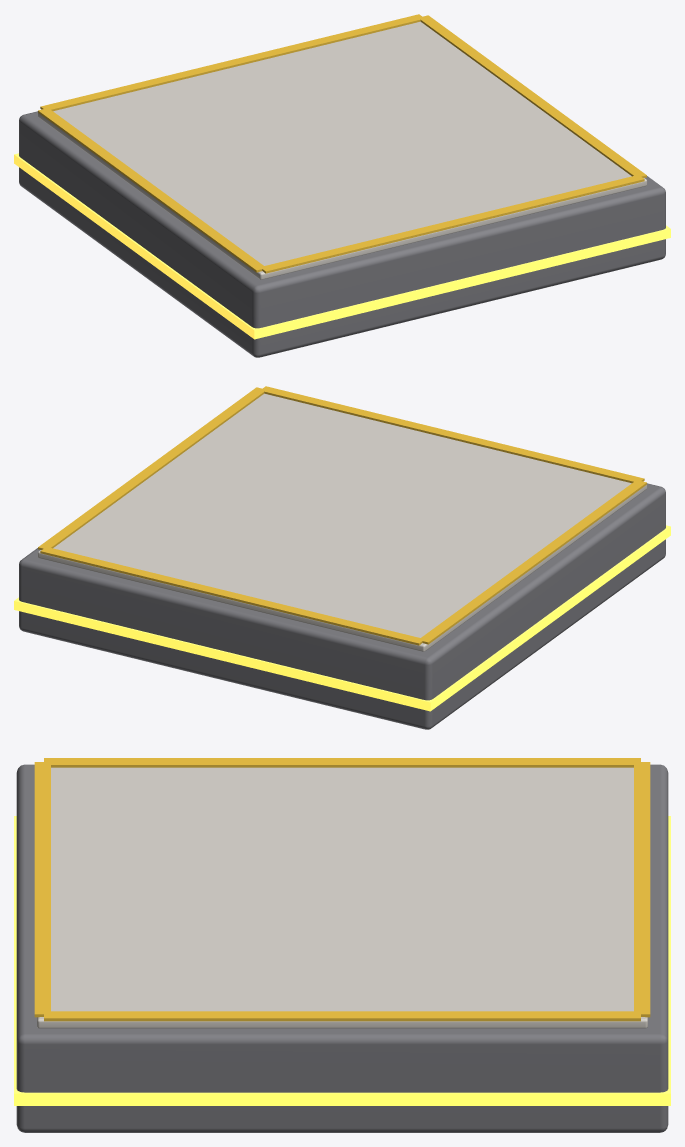
Rendered from floor_panel.glb.
3 views of the same model, one above another, from view 1: azimuth 30°, elevation 25°; view 2: azimuth 150°, elevation 25°; view 3: azimuth 270°, elevation 25° (orthographic). The views are drawn at different scales.
Parts seen in each view (by area): view 1: top, body, band, hazard3, hazard2, hazard1, hazard0; view 2: top, body, band, hazard2, hazard3, hazard1, hazard0; view 3: top, body, band, hazard0, hazard1, hazard2, hazard3.
Boxes of the visible parts, x1,y1,x2,y2 form: top: (37,21,647,279); body: (19,111,665,357); band: (14,153,670,339); hazard3: (262,176,644,273); hazard2: (40,14,424,111); hazard1: (38,109,266,272); hazard0: (420,15,646,177); top: (37,393,647,651); body: (19,483,665,729); band: (14,525,670,711); hazard2: (40,548,422,645); hazard3: (260,386,644,483); hazard1: (418,481,646,644); hazard0: (38,387,265,549); top: (37,767,647,1028); body: (16,764,668,1132); band: (14,816,670,1105); hazard0: (44,1011,640,1021); hazard1: (44,758,640,767); hazard2: (634,762,650,1017); hazard3: (34,762,50,1017).
Size of the model in its own units: 2.42 by 0.446 by 2.42.
